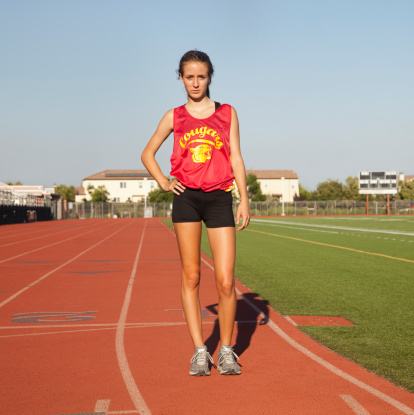em pe: (131, 39, 264, 384)
